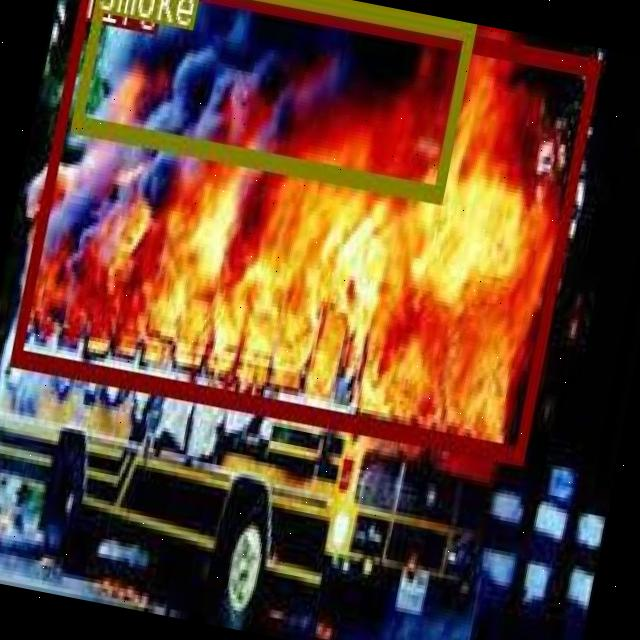fire: (9, 0, 599, 462)
smoke: (69, 0, 474, 202)
